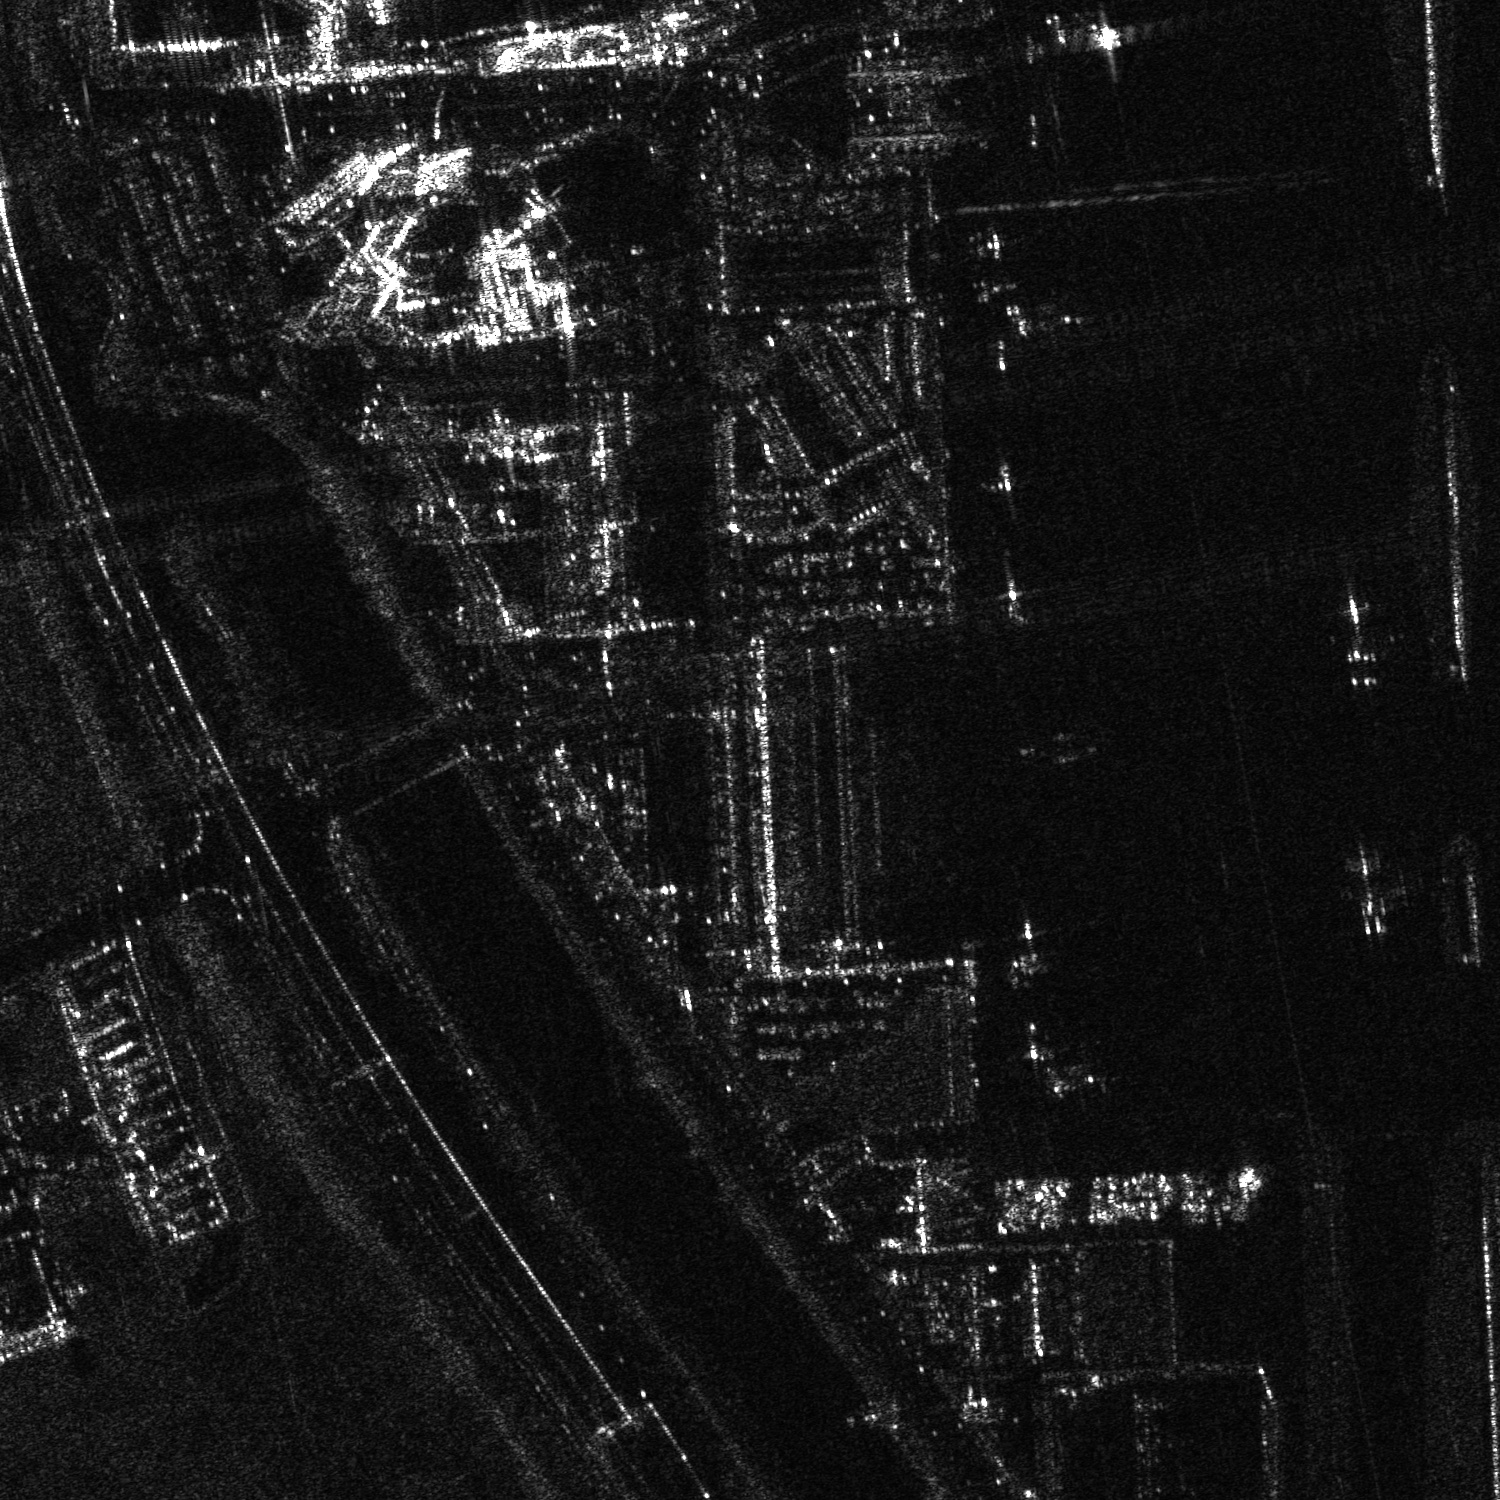A220: (986, 569, 1041, 624), (1000, 918, 1052, 975), (985, 463, 1030, 518), (1011, 1019, 1056, 1073), (962, 229, 1021, 264), (995, 299, 1032, 341)
other: (1310, 852, 1424, 935), (1315, 591, 1398, 687), (1033, 1069, 1099, 1103), (968, 277, 1025, 304)
